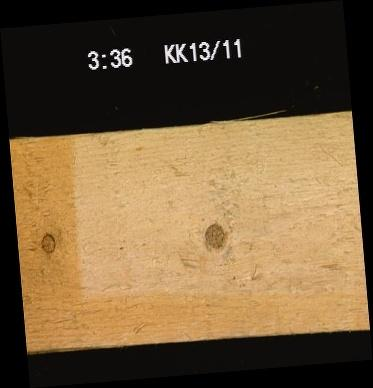dry_knot: (38, 232, 55, 254)
sound_knot: (203, 221, 225, 250)
